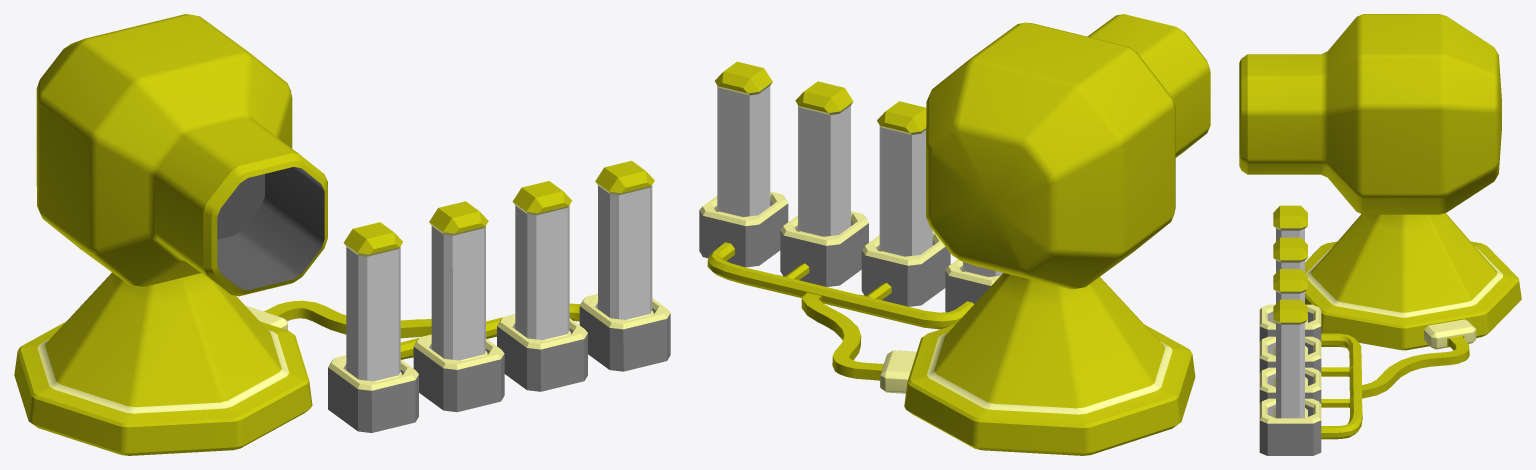
File: YellowSet.fbx
The picture shows the model from 3 angles, left to right: view 1: azimuth 30°, elevation 25°; view 2: azimuth 150°, elevation 25°; view 3: azimuth 270°, elevation 25°; orthographic projection. The views are drawn at different scales.
Parts seen in each view (by area): view 1: Cannon1, Stand_CN, Battery1, Battery2, Battery3, Battery4, Setter1, Setter2, Setter3, Setter4, polySurface2, pCube6; view 2: Cannon1, Stand_CN, Battery1, Battery2, Battery3, pCube6, Setter3, Setter2, Setter4, polySurface2, Setter1; view 3: Cannon1, Stand_CN, Battery1, polySurface2, Setter4, pCube6, Battery3, Battery4, Battery2, Setter2, Setter3, Setter1.
Part boxes in pixels (left/top/right/bottom): Cannon1: left=36, top=14, right=327, bottom=296; Stand_CN: left=14, top=272, right=312, bottom=455; Battery1: left=595, top=160, right=654, bottom=320; Battery2: left=512, top=181, right=571, bottom=340; Battery3: left=429, top=201, right=488, bottom=360; Battery4: left=343, top=222, right=402, bottom=381; Setter1: left=328, top=355, right=418, bottom=432; Setter2: left=413, top=334, right=504, bottom=412; Setter3: left=497, top=314, right=587, bottom=391; Setter4: left=579, top=294, right=670, bottom=371; polySurface2: left=245, top=300, right=431, bottom=338; pCube6: left=400, top=303, right=580, bottom=359; Cannon1: left=926, top=14, right=1210, bottom=289; Stand_CN: left=904, top=273, right=1195, bottom=455; Battery1: left=715, top=61, right=772, bottom=217; Battery2: left=795, top=81, right=853, bottom=236; Battery3: left=877, top=101, right=932, bottom=256; pCube6: left=707, top=242, right=973, bottom=329; Setter3: left=780, top=211, right=868, bottom=286; Setter2: left=861, top=231, right=950, bottom=306; Setter4: left=699, top=191, right=788, bottom=267; polySurface2: left=801, top=292, right=916, bottom=393; Setter1: left=945, top=259, right=1000, bottom=312; Cannon1: left=1239, top=14, right=1501, bottom=214; Stand_CN: left=1305, top=213, right=1521, bottom=350; Battery1: left=1273, top=299, right=1307, bottom=418; polySurface2: left=1362, top=319, right=1476, bottom=398; Setter4: left=1259, top=398, right=1321, bottom=455; pCube6: left=1321, top=333, right=1362, bottom=439; Battery3: left=1273, top=237, right=1307, bottom=355; Battery4: left=1273, top=205, right=1307, bottom=323; Battery2: left=1273, top=269, right=1307, bottom=387; Setter2: left=1259, top=336, right=1321, bottom=372; Setter3: left=1259, top=367, right=1321, bottom=403; Setter1: left=1259, top=304, right=1321, bottom=341.
Size of the model in its own units: 394 by 240 by 228.
